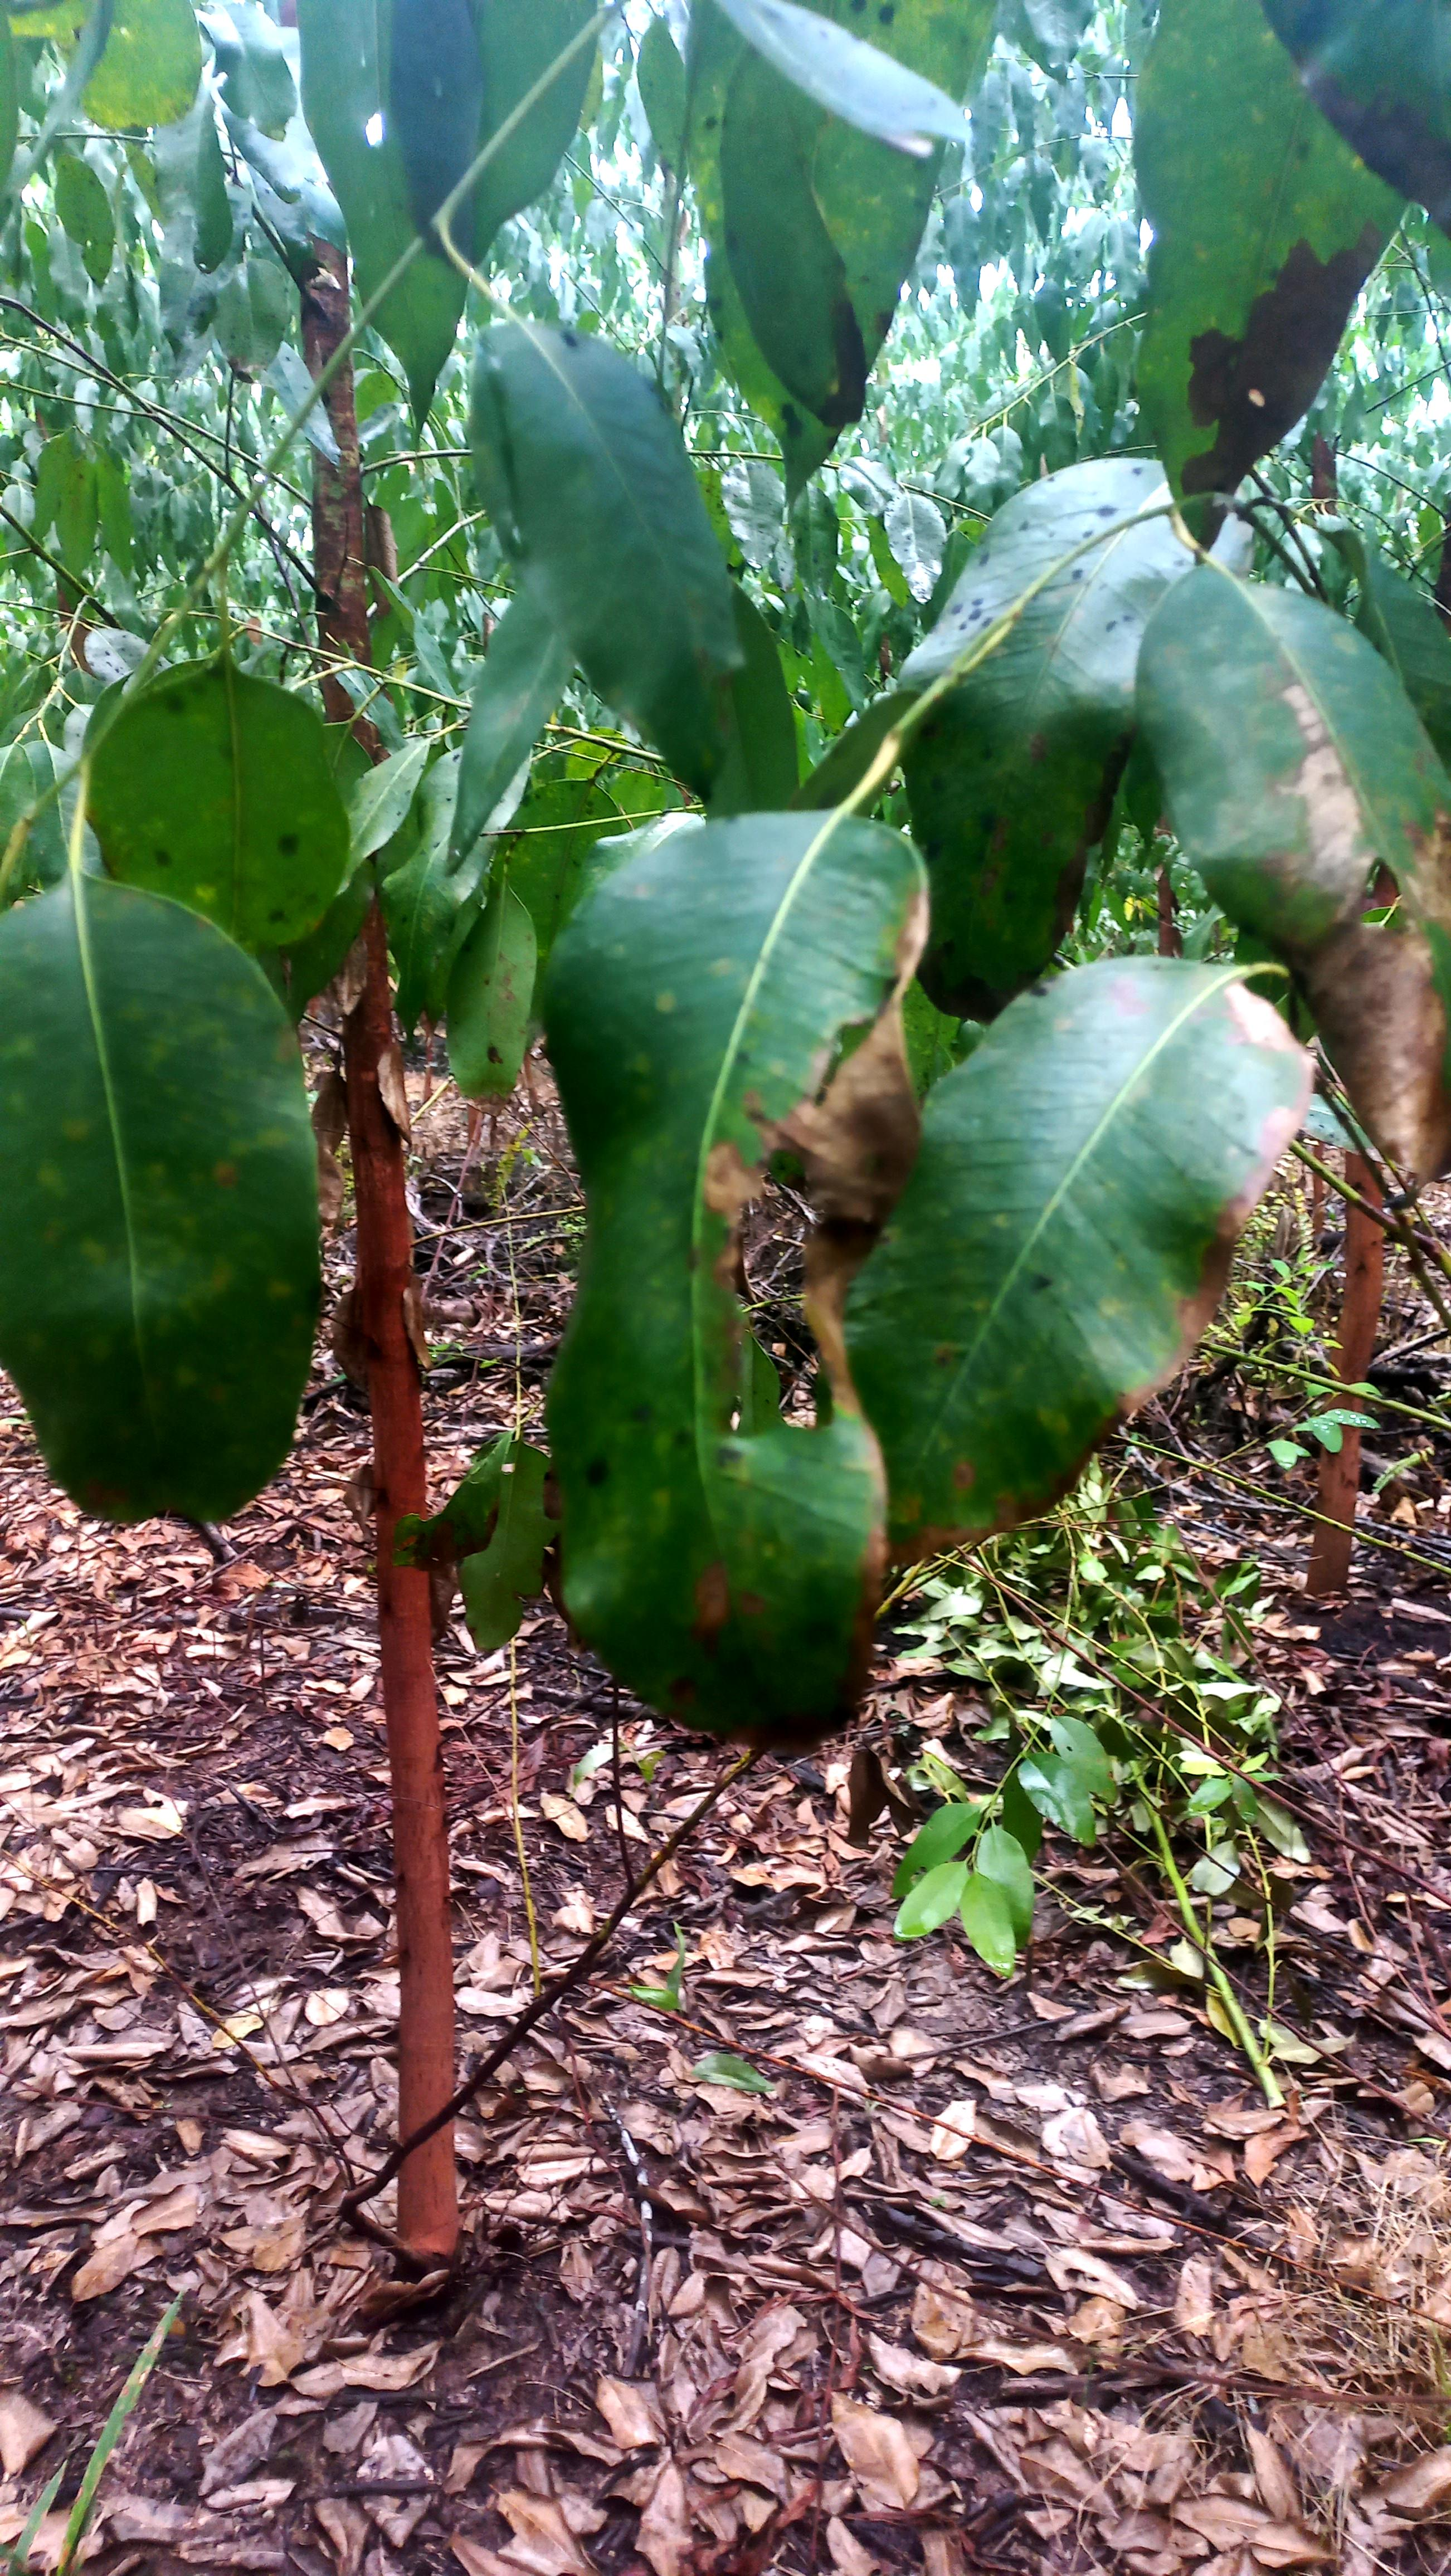Cylindrocladium: (1201, 587, 1451, 1173), (685, 915, 954, 1456), (1182, 235, 1370, 515), (1317, 67, 1451, 228)
